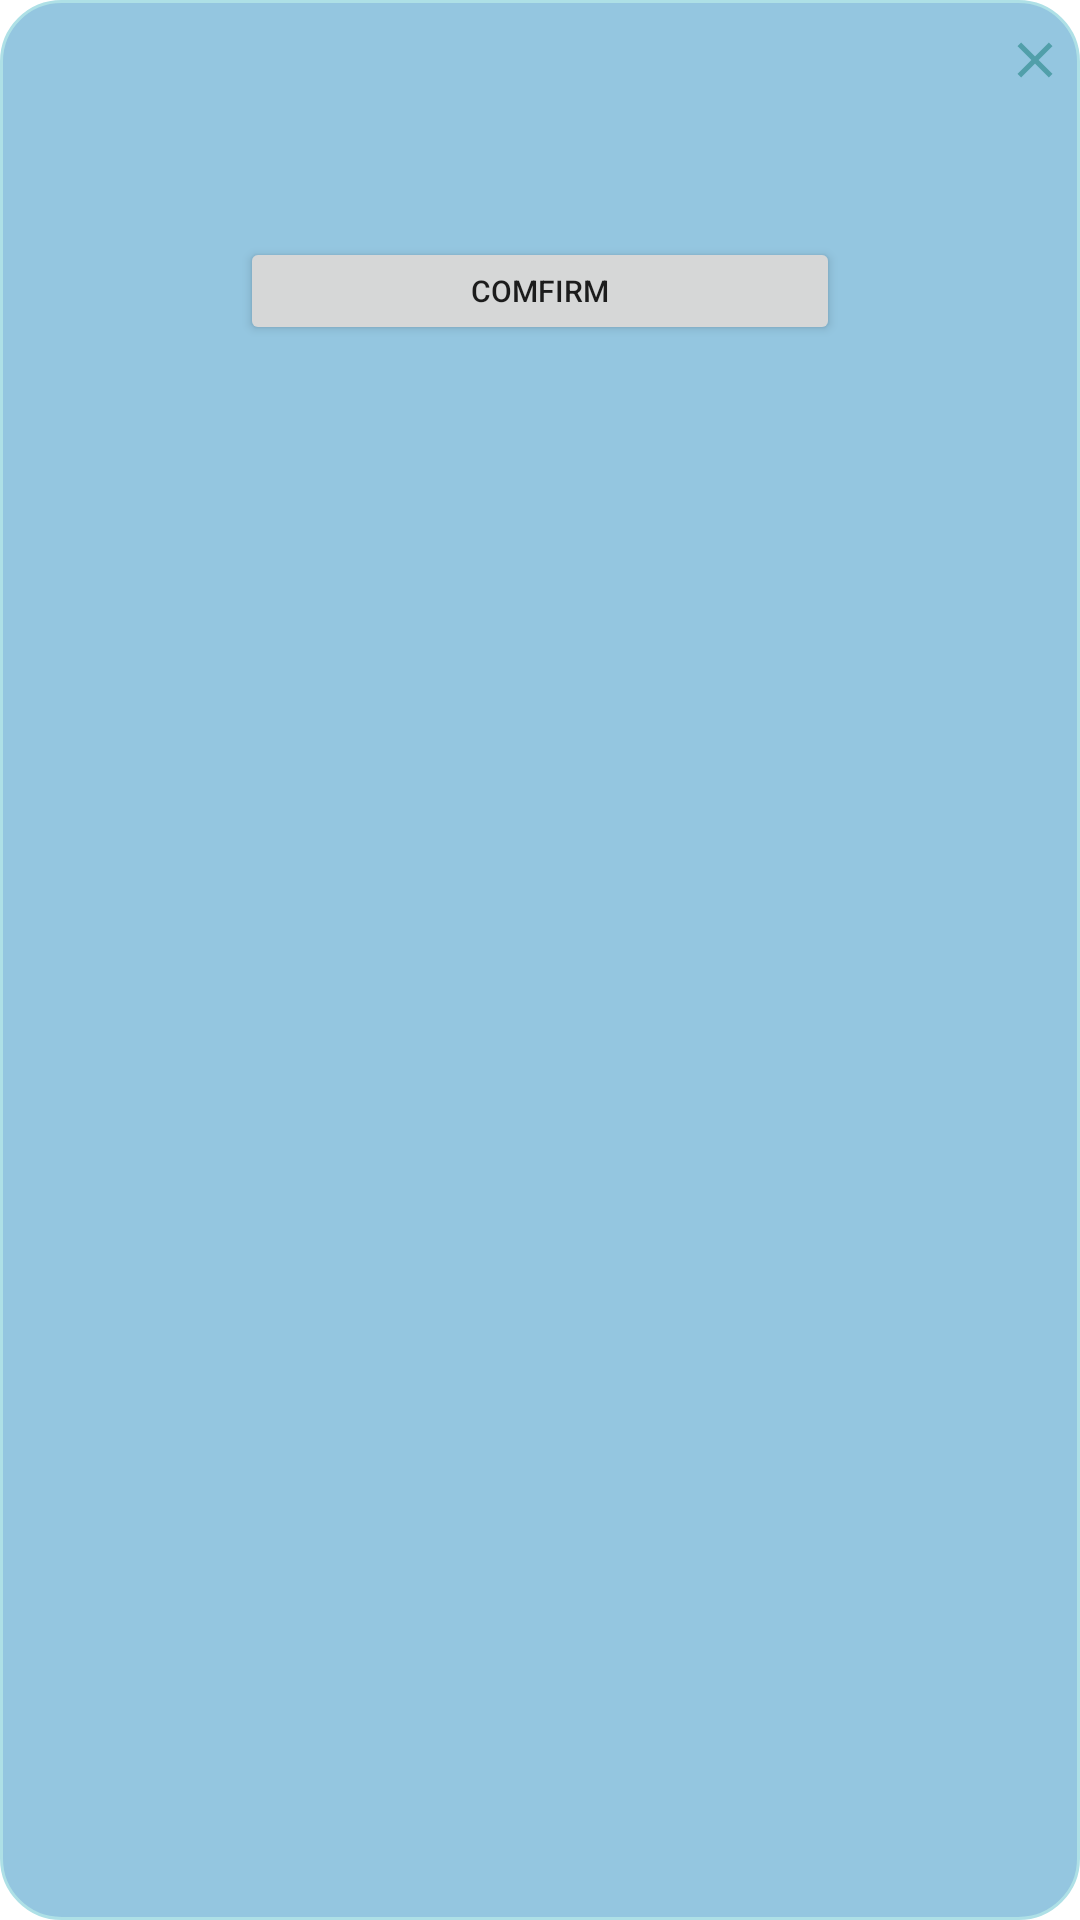

Screen size 1080 x 1920. Icon name, then its center in pixels as (x=x, y=y):
exit: (x=1035, y=60)
